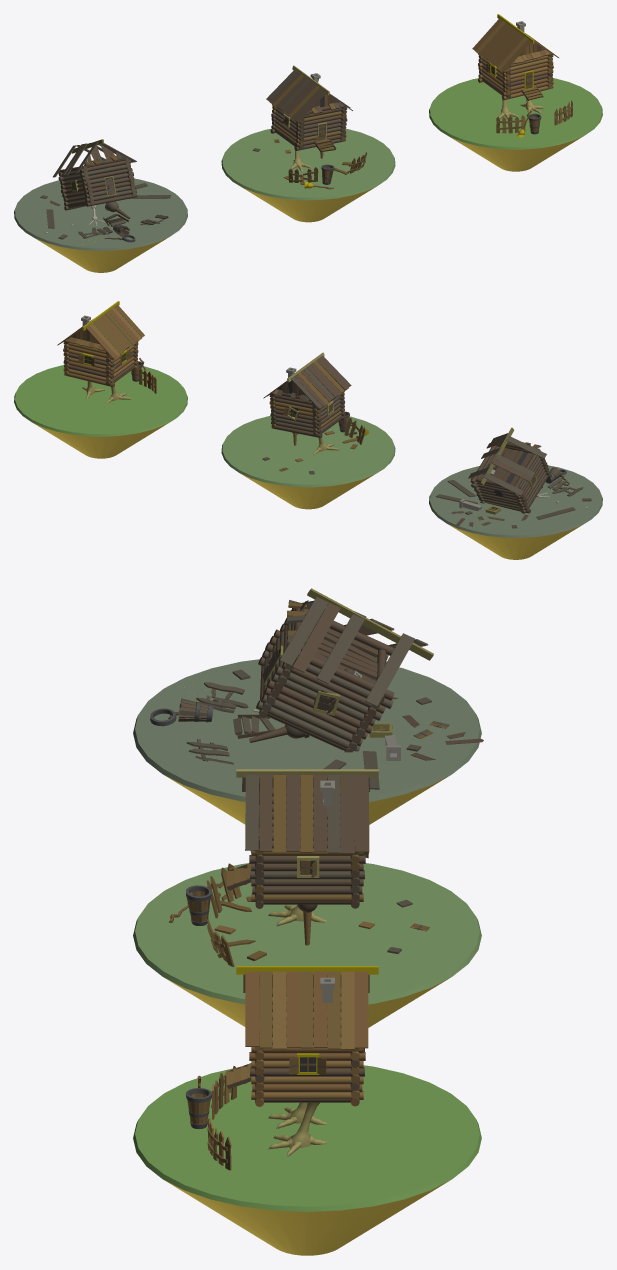
The model's file is Povr.fbx.
3 renders of one model, top to bottom at view 1: azimuth 30°, elevation 25°; view 2: azimuth 150°, elevation 25°; view 3: azimuth 270°, elevation 25°, orthographic. The views are drawn at different scales.
Parts seen in each view (by area): view 1: Ground (×3); view 2: Ground (×3); view 3: Ground (×3), pCube35 (×3), pCube39 (×3), pCube10 (×3), pCube33 (×3), pCube9 (×3), pCube40 (×2), pCube34 (×2), pCube36 (×2), pCube37 (×2), pCube38 (×2), pCylinder7 (×2) (+1 smaller).
Boxes of the visible parts, x1=… form: Ground (×3): x1=14, y1=78, x2=602, y2=272; Ground (×3): x1=14, y1=365, x2=602, y2=559; Ground (×3): x1=133, y1=659, x2=481, y2=1255; pCube35 (×3): x1=286, y1=611, x2=366, y2=1047; pCube39 (×3): x1=341, y1=633, x2=414, y2=1049; pCube10 (×3): x1=245, y1=597, x2=328, y2=1046; pCube33 (×3): x1=260, y1=602, x2=340, y2=1048; pCube9 (×3): x1=236, y1=588, x2=433, y2=974; pCube40 (×2): x1=354, y1=775, x2=369, y2=1048; pCube34 (×2): x1=273, y1=775, x2=286, y2=1049; pCube36 (×2): x1=300, y1=775, x2=313, y2=1048; pCube37 (×2): x1=313, y1=775, x2=327, y2=1047; pCube38 (×2): x1=328, y1=775, x2=340, y2=1049; pCylinder7 (×2): x1=252, y1=886, x2=362, y2=1092.
Bounding box in the file's own units: 164 × 37.73 × 43.95.
